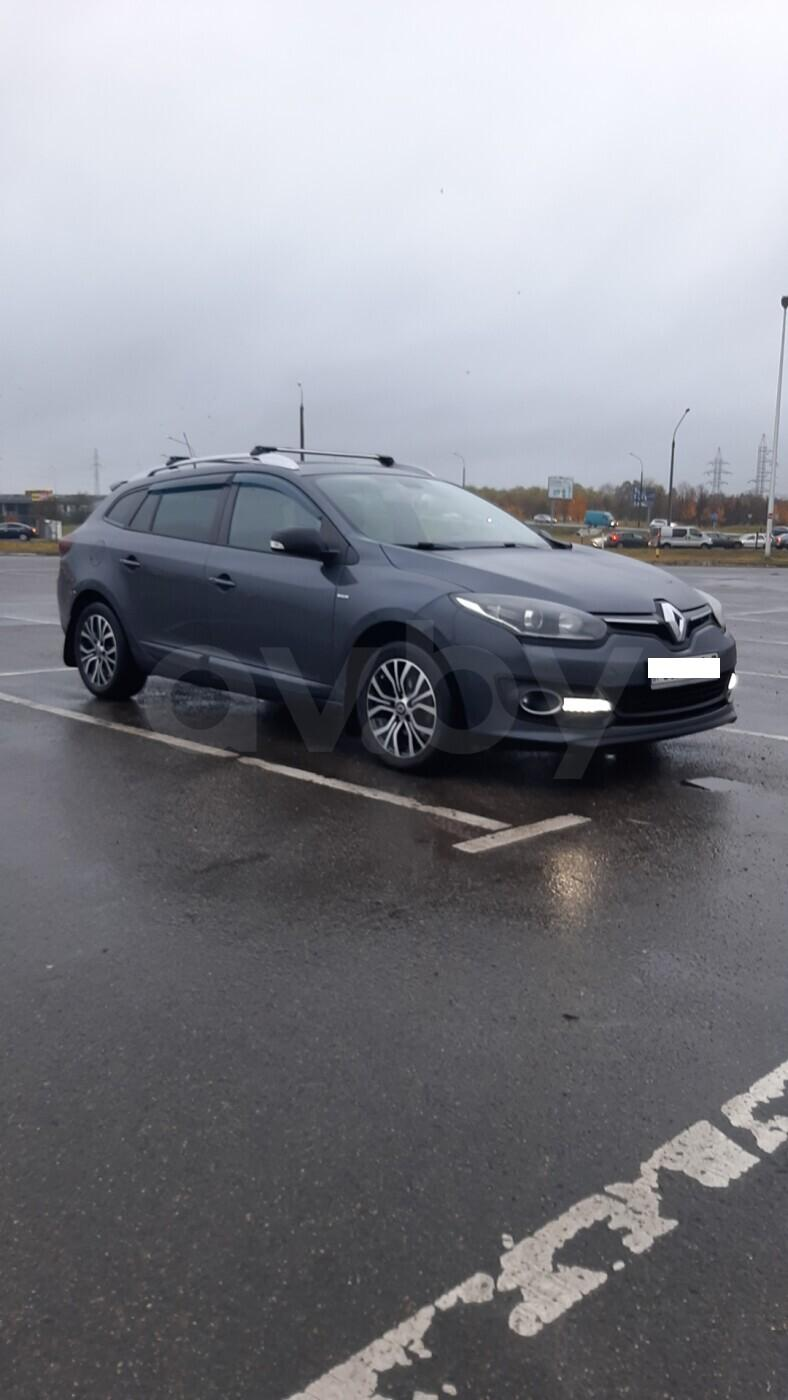Megane_2014-2016: (60, 446, 754, 812)
